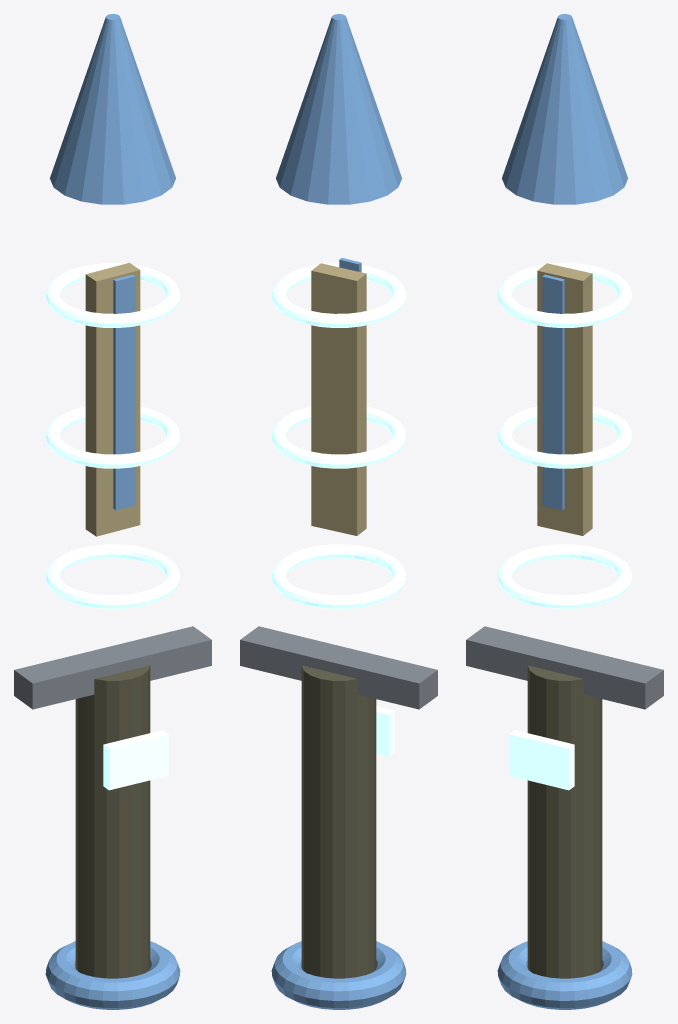
Rendered from asset.glb.
3 renders of one model, left to right at view 1: azimuth 30°, elevation 25°; view 2: azimuth 150°, elevation 25°; view 3: azimuth 330°, elevation 25°, orthographic.
Visible parts, largest first — view 1: Grip, BladeTip, BladeCore, Guard, Pommel, BladeEdge, EnergyBand_1.18, EnergyBand_2.26, EnergyBand_1.72, IdentityPlate; view 2: Grip, BladeTip, BladeCore, Guard, Pommel, EnergyBand_1.18, EnergyBand_2.26, EnergyBand_1.72, IdentityPlate; view 3: Grip, BladeTip, BladeCore, Guard, Pommel, BladeEdge, EnergyBand_1.18, EnergyBand_2.26, EnergyBand_1.72, IdentityPlate.
Part boxes in pixels (bbox=[...]): Grip: bbox=[75, 665, 150, 978]; BladeTip: bbox=[50, 14, 175, 204]; BladeCore: bbox=[85, 263, 140, 536]; Guard: bbox=[14, 626, 211, 709]; Pommel: bbox=[45, 941, 180, 1009]; BladeEdge: bbox=[113, 274, 135, 510]; EnergyBand_1.18: bbox=[45, 544, 180, 609]; EnergyBand_2.26: bbox=[45, 263, 180, 327]; EnergyBand_1.72: bbox=[45, 406, 180, 468]; IdentityPlate: bbox=[103, 730, 168, 790]; Grip: bbox=[301, 665, 376, 978]; BladeTip: bbox=[276, 14, 401, 204]; BladeCore: bbox=[311, 263, 366, 535]; Guard: bbox=[240, 626, 437, 709]; Pommel: bbox=[271, 941, 406, 1009]; EnergyBand_1.18: bbox=[271, 544, 406, 609]; EnergyBand_2.26: bbox=[271, 263, 406, 327]; EnergyBand_1.72: bbox=[271, 406, 406, 468]; IdentityPlate: bbox=[376, 706, 394, 756]; Grip: bbox=[527, 665, 602, 978]; BladeTip: bbox=[502, 14, 627, 204]; BladeCore: bbox=[537, 263, 592, 535]; Guard: bbox=[466, 626, 663, 709]; Pommel: bbox=[497, 941, 632, 1009]; BladeEdge: bbox=[542, 274, 564, 510]; EnergyBand_1.18: bbox=[497, 544, 632, 609]; EnergyBand_2.26: bbox=[497, 263, 632, 327]; EnergyBand_1.72: bbox=[497, 406, 632, 468]; IdentityPlate: bbox=[509, 730, 574, 790].
Bounding box in the file's own units: 0.72 × 3.72 × 0.47.
